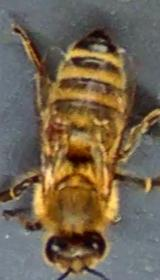varroa_mite: (33, 102, 74, 144)
